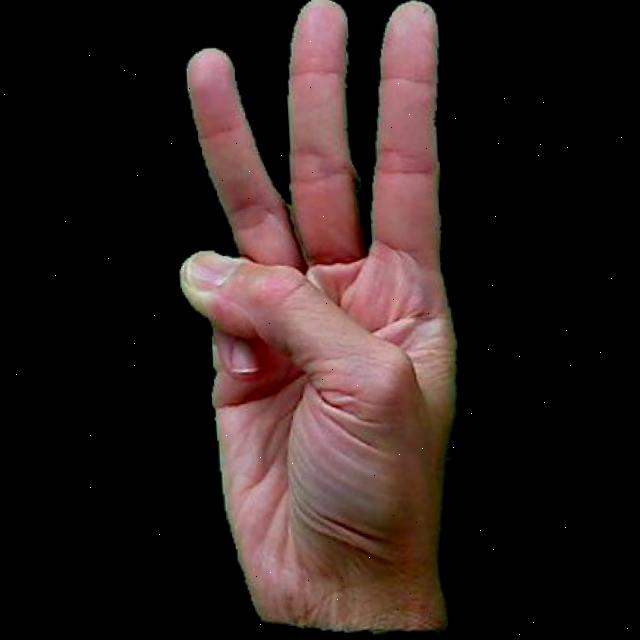w: (159, 0, 475, 640)
